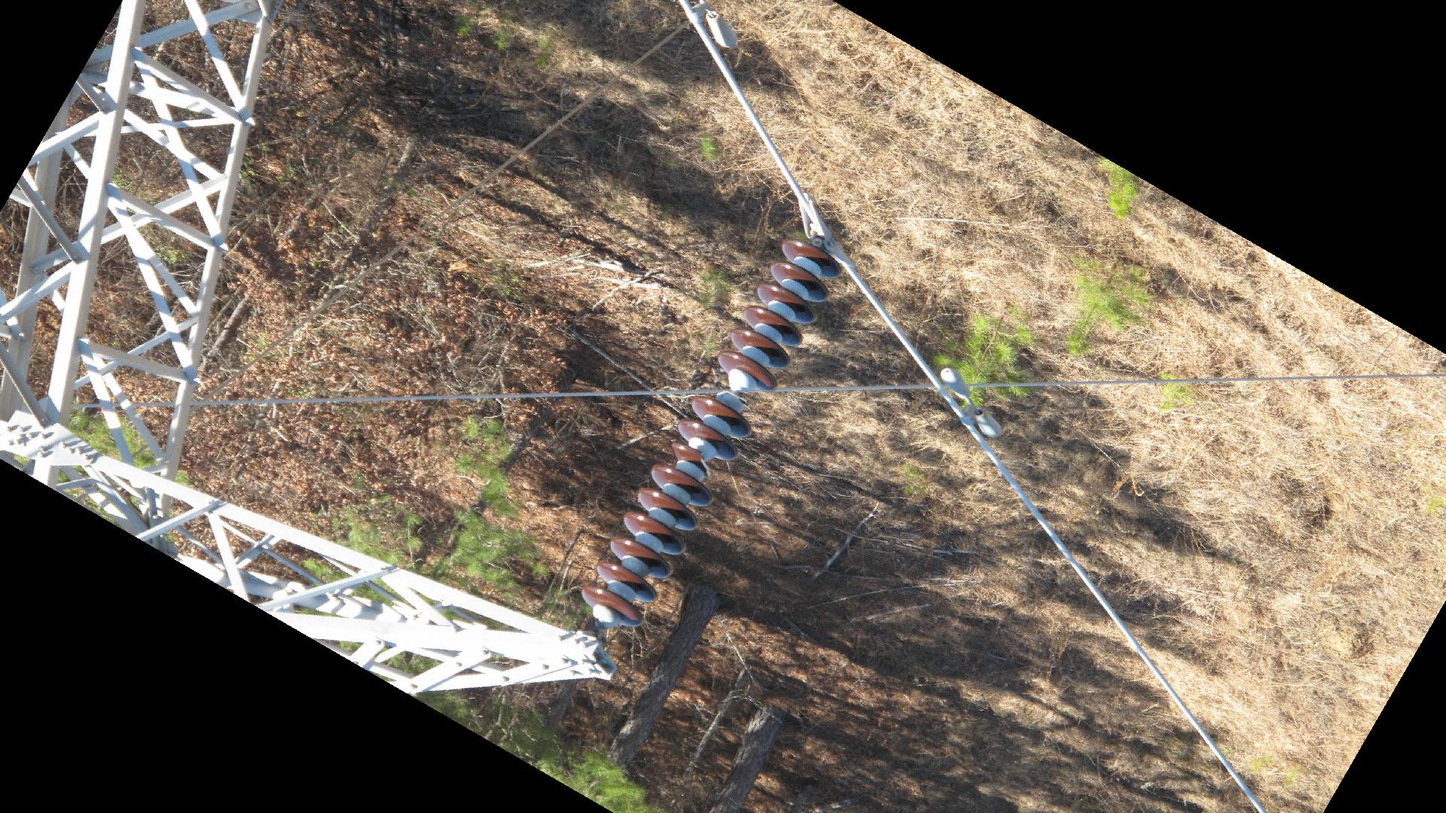insulator: (575, 393, 756, 630), (714, 233, 846, 396)
insulator_breakage: (694, 447, 714, 483)
